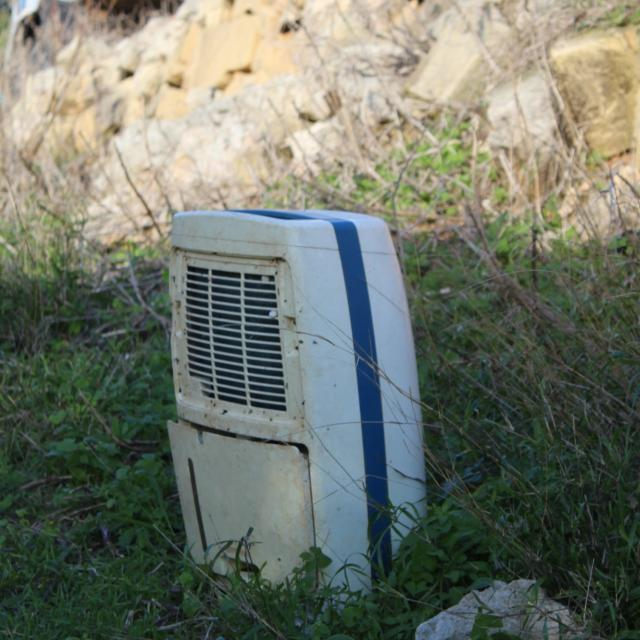Aluminium foil: (411, 572, 590, 640)
Other litter: (167, 203, 434, 611)
